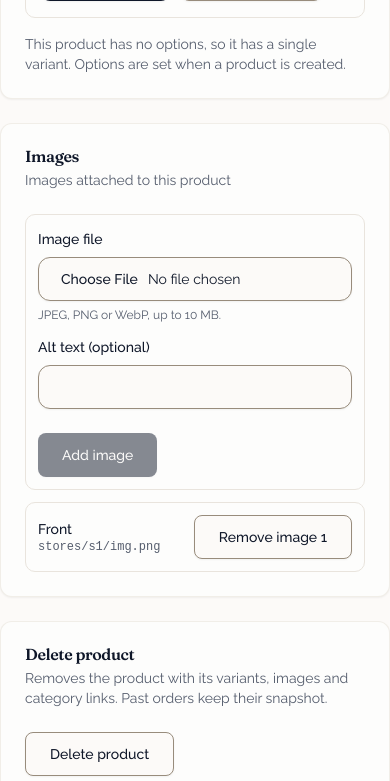
Test: ProductEditor › lists images with a remove action and an add image form
The image size is (390, 781).
(page scrolled)
Expected: the text "stores/s1/img.png" is shown, [38,539,160,555]
Expected: the form "Add image" is shown, [25,214,365,490]
Click the button "Remove image 1" at (273, 537), box [194,515,352,559]
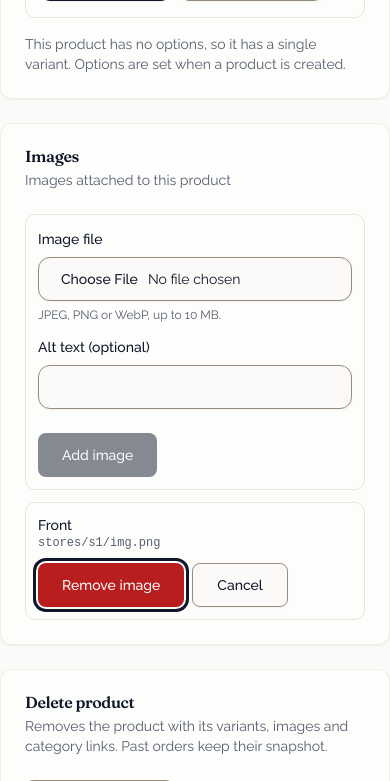
Click the button "Remove image" at (111, 585), box [38,563,184,607]
(page scrolled)
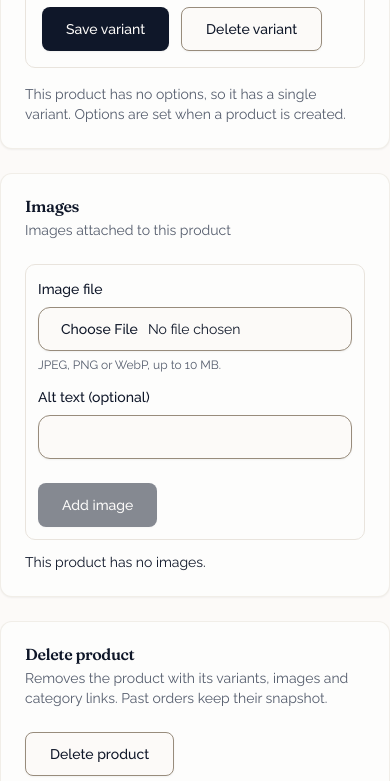
Expected: the text "This product has no images." is shown, [25,554,206,570]
